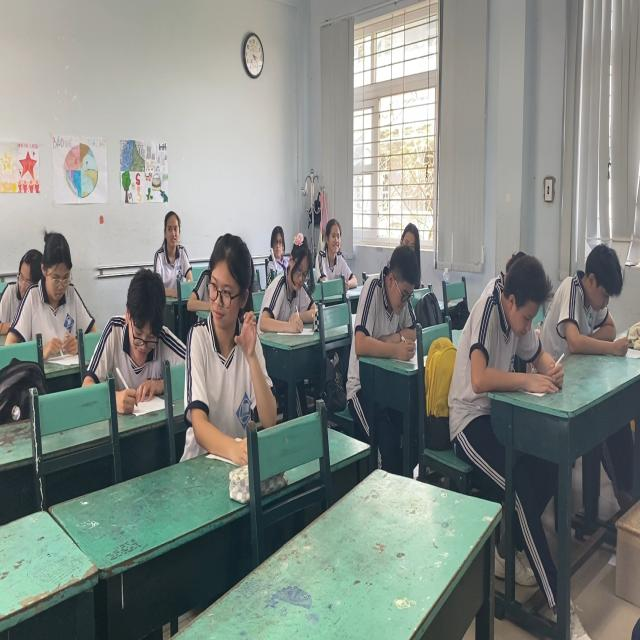cheating: (187, 233, 271, 468)
not_cheating: (457, 247, 549, 392), (100, 271, 184, 406), (553, 226, 632, 365), (353, 247, 428, 360), (12, 226, 80, 344), (259, 226, 323, 337), (150, 205, 192, 288), (312, 212, 351, 288)
